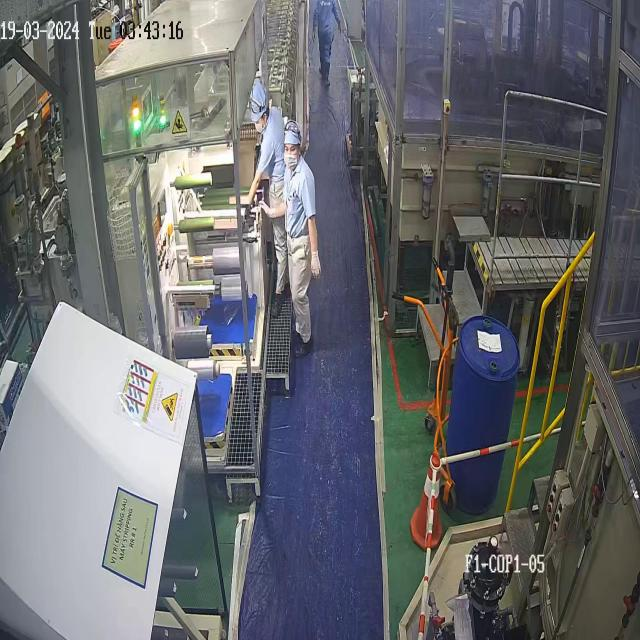Person: (258, 120, 321, 358), (247, 82, 289, 317), (312, 0, 341, 88)
